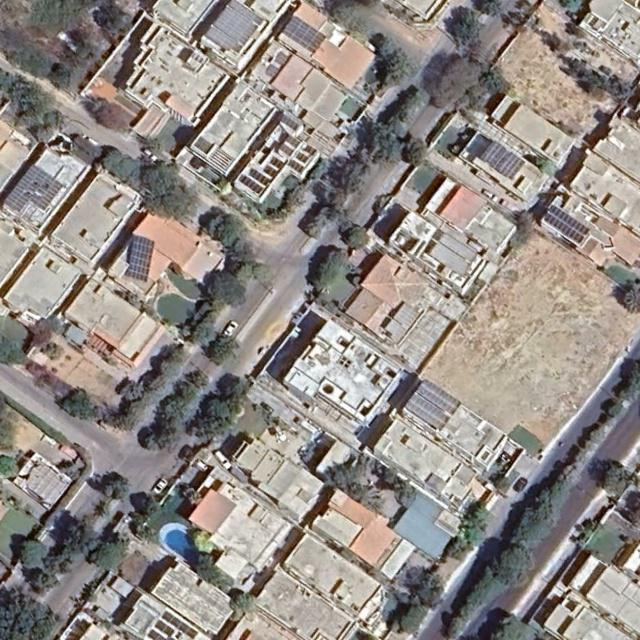solar panel: (204, 0, 264, 53), (5, 164, 66, 212), (405, 393, 449, 431), (283, 16, 325, 52), (417, 380, 459, 414), (126, 236, 155, 282), (549, 205, 590, 236), (544, 214, 584, 244), (161, 611, 199, 639), (496, 152, 525, 179), (481, 141, 507, 168), (241, 175, 263, 194), (154, 620, 175, 637), (250, 170, 270, 185), (282, 115, 299, 130), (288, 159, 304, 173), (286, 135, 300, 148), (266, 65, 280, 78), (276, 52, 289, 66), (263, 165, 277, 177), (271, 157, 285, 169), (149, 630, 167, 639), (280, 144, 294, 155), (297, 153, 308, 163), (305, 145, 316, 155)
